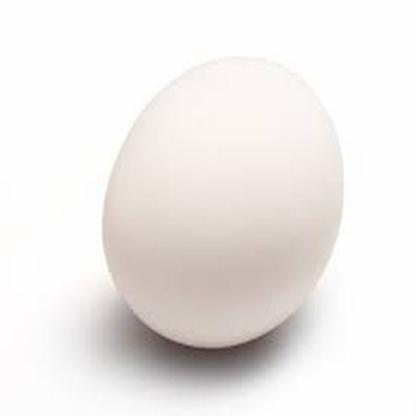egg: (96, 51, 350, 355)
